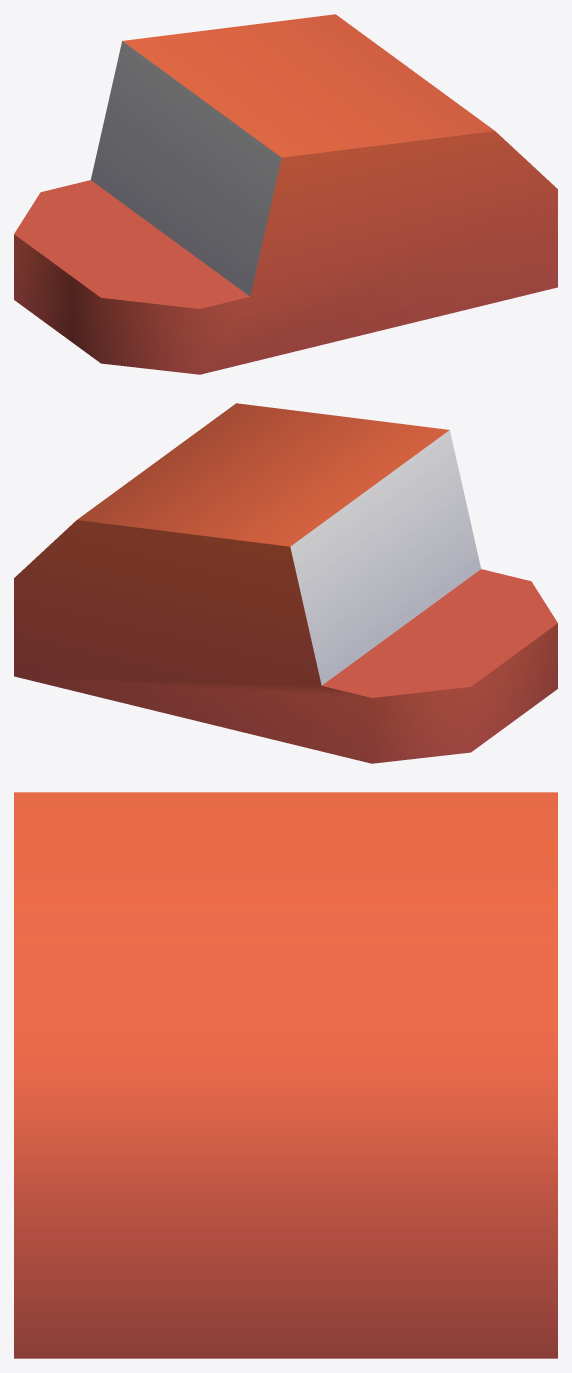
File: hat-cap.fbx
3 renders of one model, top to bottom at view 1: azimuth 30°, elevation 25°; view 2: azimuth 150°, elevation 25°; view 3: azimuth 270°, elevation 25°, orthographic. The views are drawn at different scales.
Visible parts, largest first — view 1: hat-cap; view 2: hat-cap; view 3: hat-cap.
Part boxes in pixels (left/top/right/bottom): hat-cap: left=14, top=14, right=557, bottom=374; hat-cap: left=14, top=403, right=557, bottom=763; hat-cap: left=14, top=792, right=557, bottom=1358.
Size of the model in its own units: 33.5 by 15 by 22.
